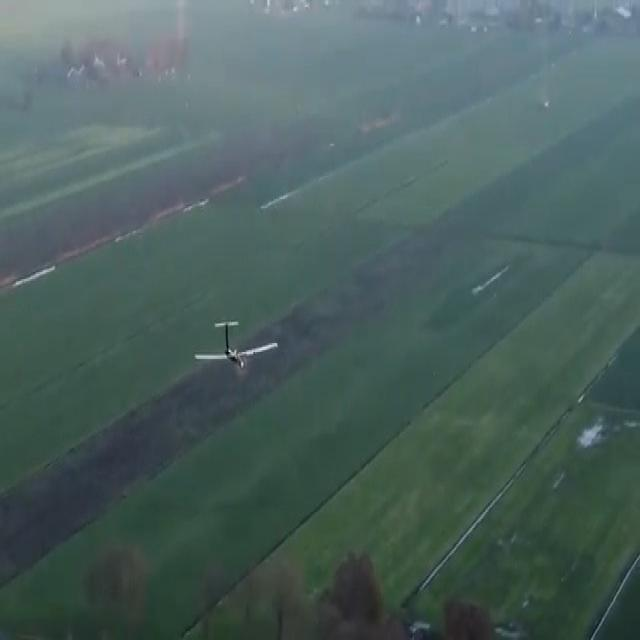drones: (191, 310, 282, 390)
